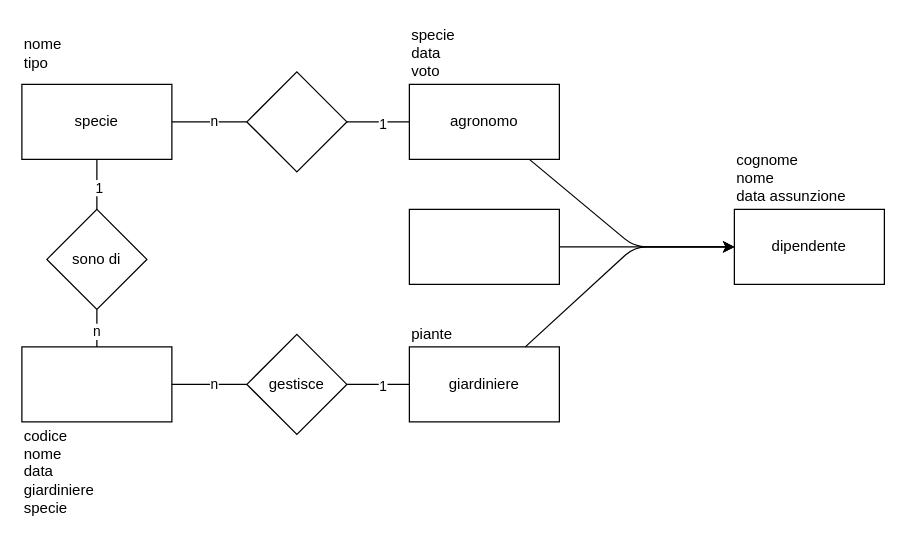
Image size: 906x543. Some labels were removed from this diagram. Each missing label, with the centre of its shape:
"commesso" belongs at point 483,246.
"pianta" belongs at point 96,384.
"è esperto in" belongs at point 296,121.
